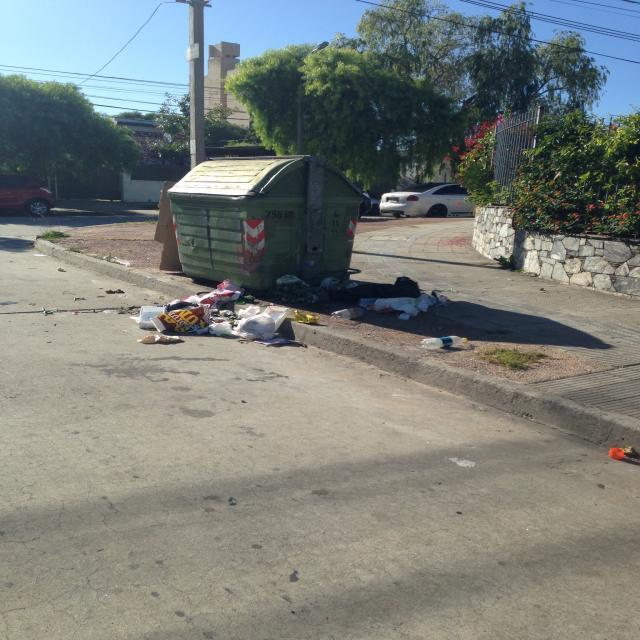garbage: (138, 286, 292, 347), (357, 272, 447, 318)
